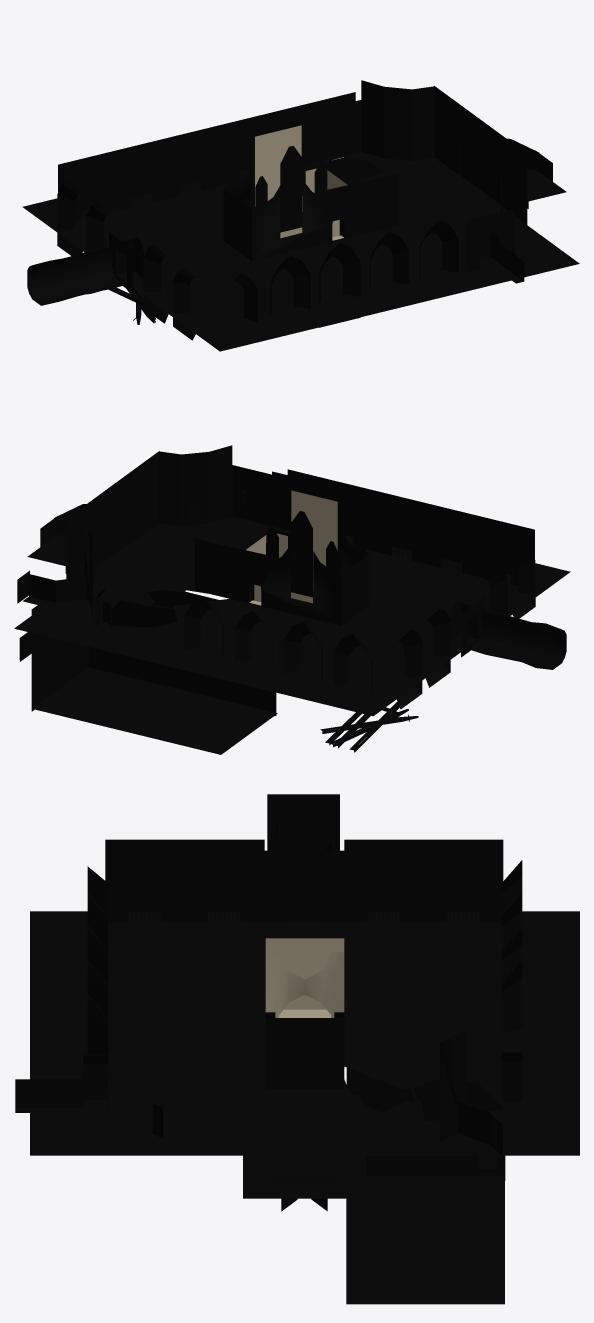
3 views of the same model, one above another, from view 1: azimuth 30°, elevation 25°; view 2: azimuth 150°, elevation 25°; view 3: azimuth 270°, elevation 25° (orthographic). The views are drawn at different scales.
Parts seen in each view (by area): view 1: stuff__1FLOOR, stuff__1ORGANSIDE, stuff__AFRONTWALL, stuff__1PULPIT, stuff__AALCOVEINTERIO, stuff__1SCREENWALL, 35t1__mesh, stuff__1BOXEND, stuff__1T_TUNNEL_WALL01, stuff___ORGANBACKVIEW, pipemayb02__1TALLPIPES, shscreen__mesh (+10 smaller); view 2: stuff__1FLOOR, stuff__1ORGANSIDE, stuff__1CRYPT, stuff__AFRONTWALL, stuff__2CRYPT, stuff__1PULPIT, 35t1__mesh, stuff__1SCREENWALL, stuff__AALCOVEINTERIO, stuff__1BOXEND, stuff__4CRYPT, stuff__1T_TUNNEL_WALL01 (+10 smaller); view 3: stuff__1FLOOR, stuff__AFRONTWALL, stuff__1CRYPT, 35t1__mesh, stuff__AALCOVEINTERIO, stuff__1ORGANSIDE, stuff__5CRYPT, stuff__1WINDOWWALL, stuff__1ALTARFLOOR, stuff__1CATH2R36, stuff__1TUNNELSIDES, stuff___CROSSBRACE (+5 smaller).
Part boxes in pixels (x1=…): stuff__1FLOOR: x1=22, y1=151, x2=579, y2=351; stuff__1ORGANSIDE: x1=57, y1=126, x2=458, y2=340; stuff__AFRONTWALL: x1=67, y1=100, x2=514, y2=272; stuff__1PULPIT: x1=361, y1=80, x2=502, y2=212; stuff__AALCOVEINTERIO: x1=58, y1=92, x2=355, y2=210; stuff__1SCREENWALL: x1=434, y1=86, x2=527, y2=224; 35t1__mesh: x1=360, y1=160, x2=516, y2=243; stuff__1BOXEND: x1=223, y1=173, x2=398, y2=260; stuff__1T_TUNNEL_WALL01: x1=27, y1=246, x2=113, y2=293; stuff___ORGANBACKVIEW: x1=255, y1=125, x2=316, y2=238; pipemayb02__1TALLPIPES: x1=280, y1=146, x2=302, y2=232; shscreen__mesh: x1=460, y1=139, x2=501, y2=204; stuff__1FLOOR: x1=14, y1=492, x2=570, y2=716; stuff__1ORGANSIDE: x1=94, y1=526, x2=535, y2=709; stuff__1CRYPT: x1=32, y1=667, x2=277, y2=754; stuff__AFRONTWALL: x1=232, y1=465, x2=525, y2=586; stuff__2CRYPT: x1=88, y1=590, x2=276, y2=715; stuff__1PULPIT: x1=84, y1=445, x2=232, y2=617; 35t1__mesh: x1=93, y1=525, x2=241, y2=605; stuff__1SCREENWALL: x1=66, y1=451, x2=158, y2=579; stuff__AALCOVEINTERIO: x1=287, y1=469, x2=534, y2=575; stuff__1BOXEND: x1=195, y1=538, x2=369, y2=625; stuff__4CRYPT: x1=31, y1=605, x2=88, y2=711; stuff__1T_TUNNEL_WALL01: x1=480, y1=610, x2=566, y2=657; stuff__1FLOOR: x1=30, y1=911, x2=579, y2=1155; stuff__AFRONTWALL: x1=105, y1=850, x2=503, y2=922; stuff__1CRYPT: x1=346, y1=1176, x2=504, y2=1304; 35t1__mesh: x1=181, y1=1097, x2=427, y2=1148; stuff__AALCOVEINTERIO: x1=105, y1=839, x2=503, y2=911; stuff__1ORGANSIDE: x1=87, y1=860, x2=522, y2=1108; stuff__5CRYPT: x1=346, y1=1067, x2=505, y2=1180; stuff__1WINDOWWALL: x1=265, y1=1018, x2=344, y2=1089; stuff__1ALTARFLOOR: x1=243, y1=1155, x2=366, y2=1198; stuff__1CATH2R36: x1=267, y1=794, x2=339, y2=850; stuff__1TUNNELSIDES: x1=83, y1=921, x2=503, y2=1169; stuff___CROSSBRACE: x1=266, y1=952, x2=344, y2=1017.
Size of what is drawn, in the model's own units: 1764 by 850 by 1199.
